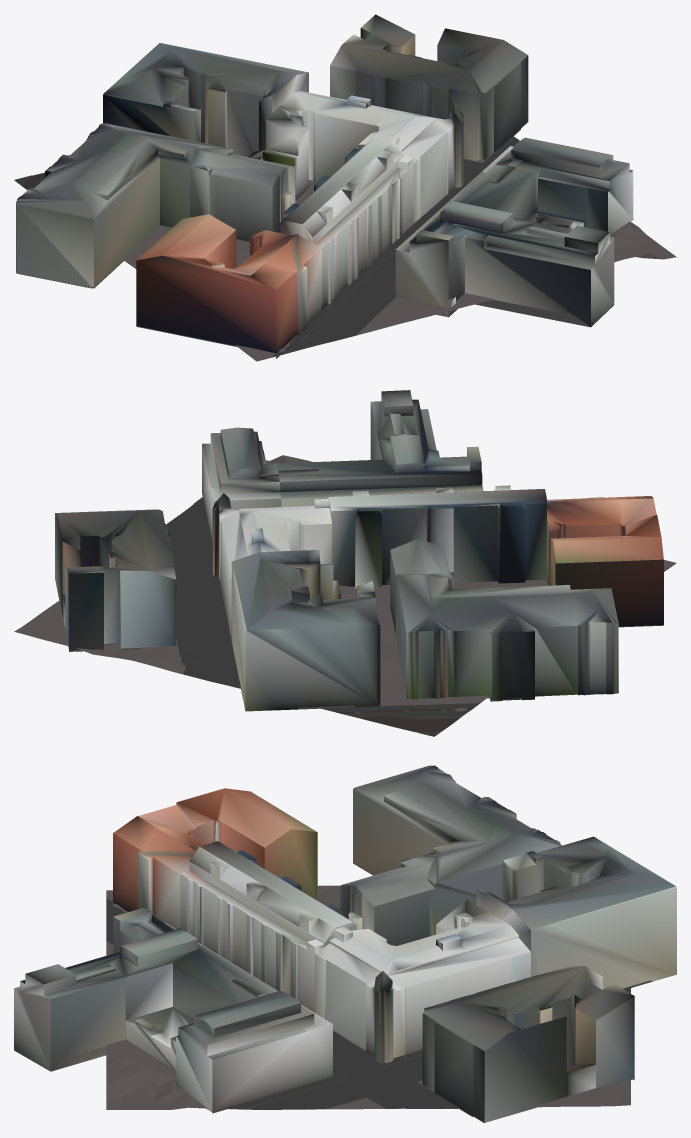
3 renders of one model, top to bottom at view 1: azimuth 30°, elevation 25°; view 2: azimuth 150°, elevation 25°; view 3: azimuth 270°, elevation 25°, orthographic. The views are drawn at different scales.
Visible parts, largest first — view 1: c_m06_p04; view 2: c_m06_p04; view 3: c_m06_p04.
Boxes of the visible parts, x1=… form: c_m06_p04: x1=14, y1=14, x2=676, y2=361; c_m06_p04: x1=14, y1=390, x2=676, y2=736; c_m06_p04: x1=14, y1=765, x2=676, y2=1122.
Size of the model in its own units: 164 by 28.79 by 162.
